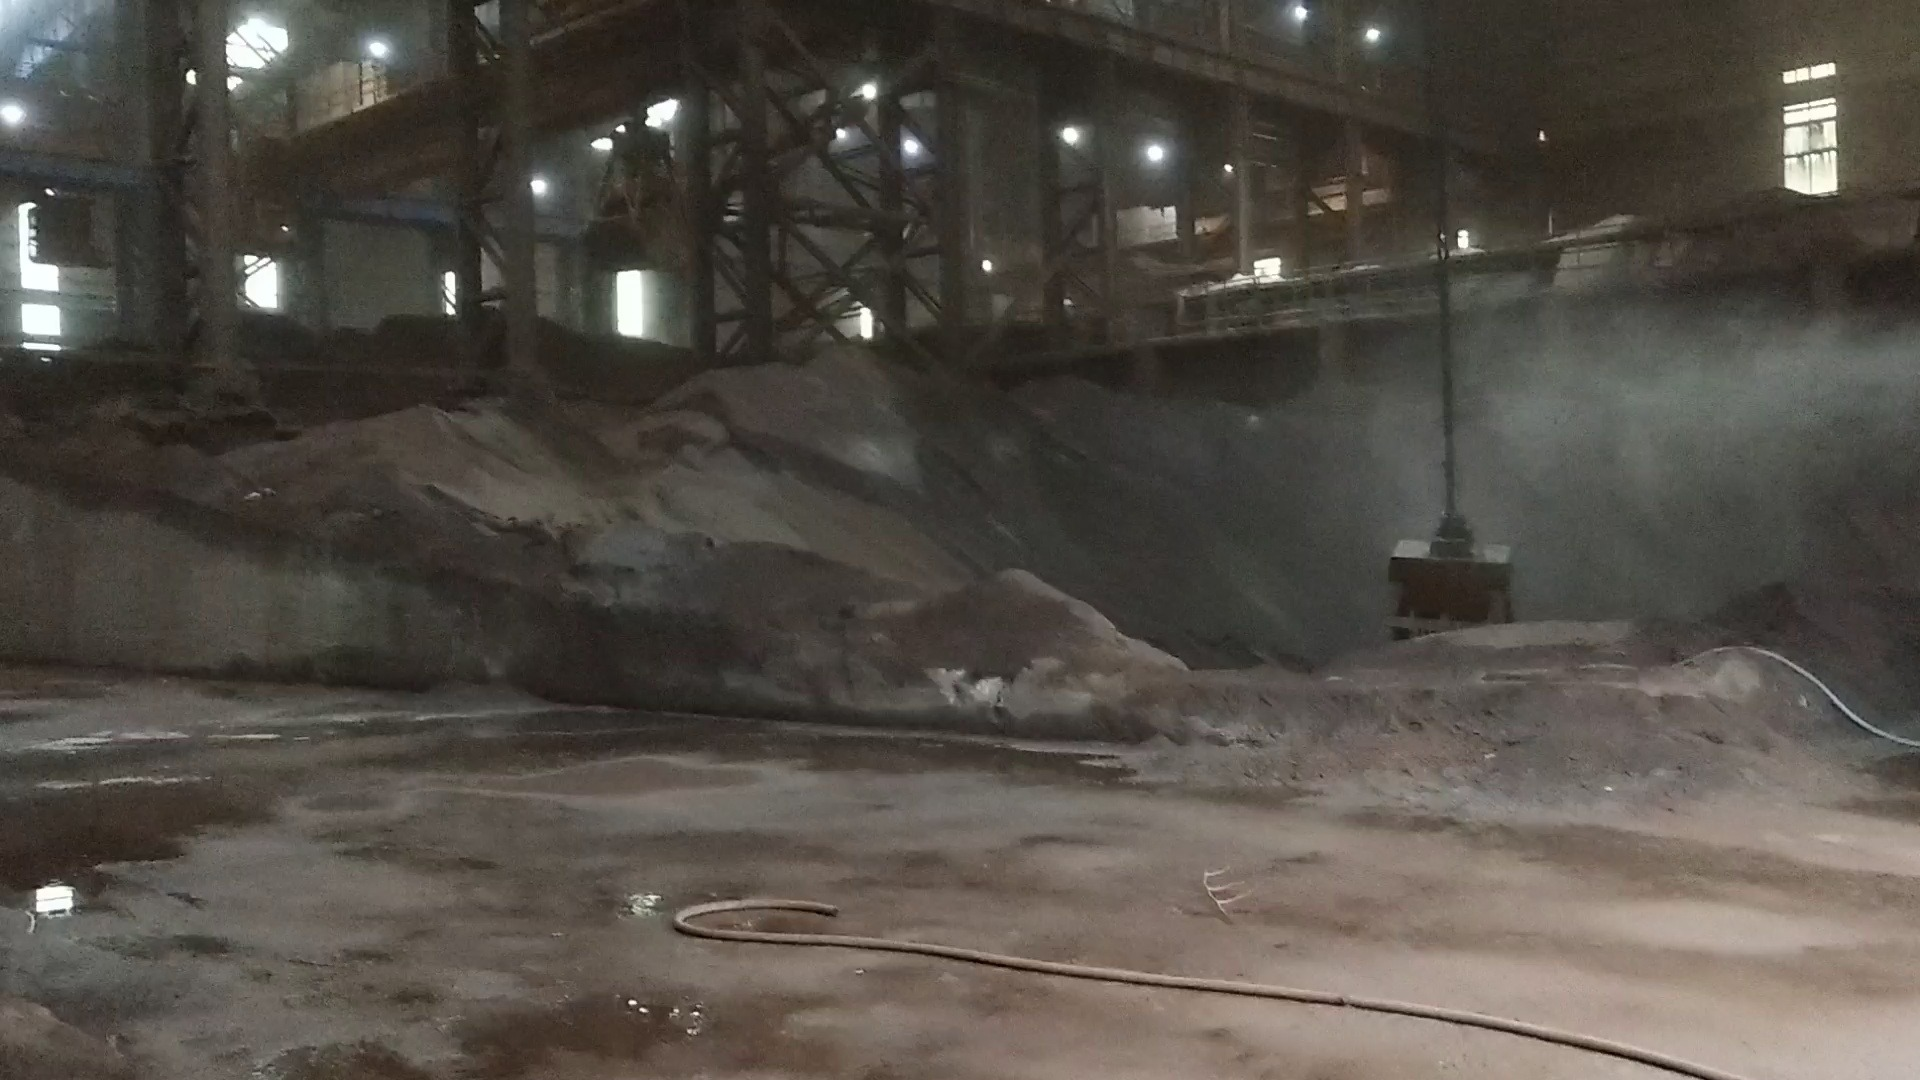dust: (1356, 349, 1898, 473)
grab: (1371, 496, 1516, 647)
